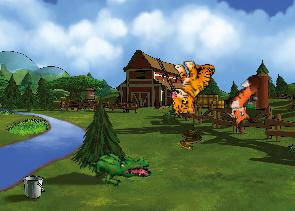crocodile: (85, 141, 153, 193)
fox: (216, 71, 277, 132)
tiger: (169, 59, 215, 114)
